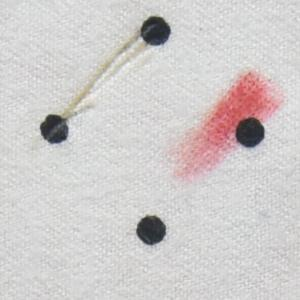Oil Stain: (44, 21, 169, 145)
Stain: (166, 69, 293, 187)
